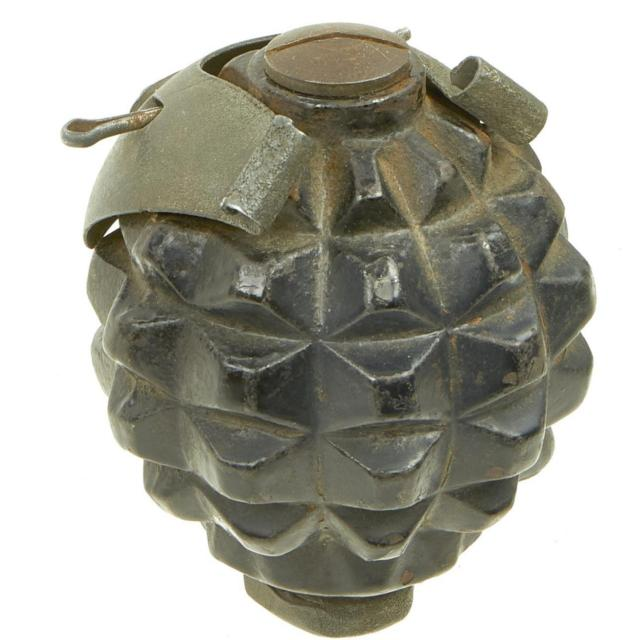grenade: (61, 23, 598, 640)
